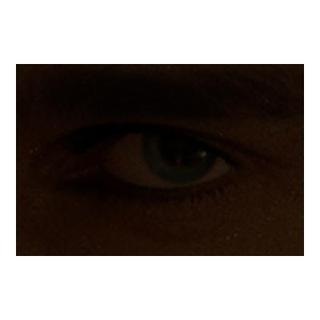pupil: (163, 127, 198, 162)
